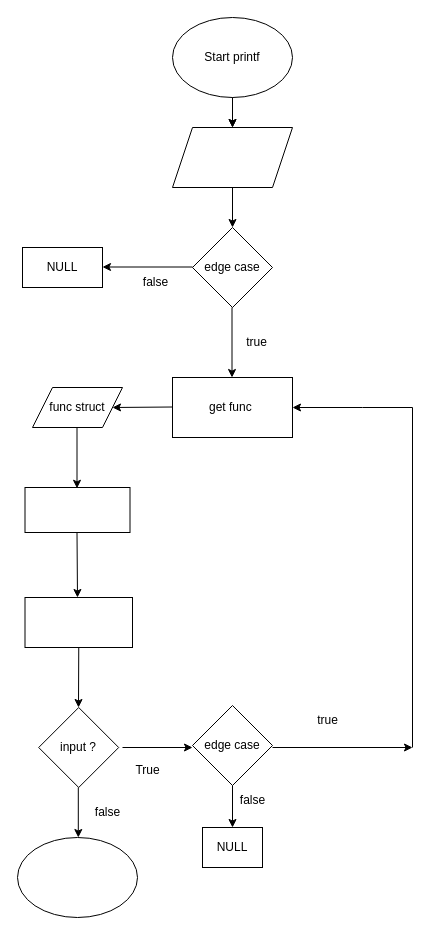
Image size: 438x935. Some labels were removed from this diagram. The box of each missing label's shape, as (x1, y1, x2, y2) in pixels:
End: (16, 836, 138, 918)
func used: (24, 486, 130, 532)
input: (172, 126, 292, 188)
out put of func: (24, 596, 132, 648)
